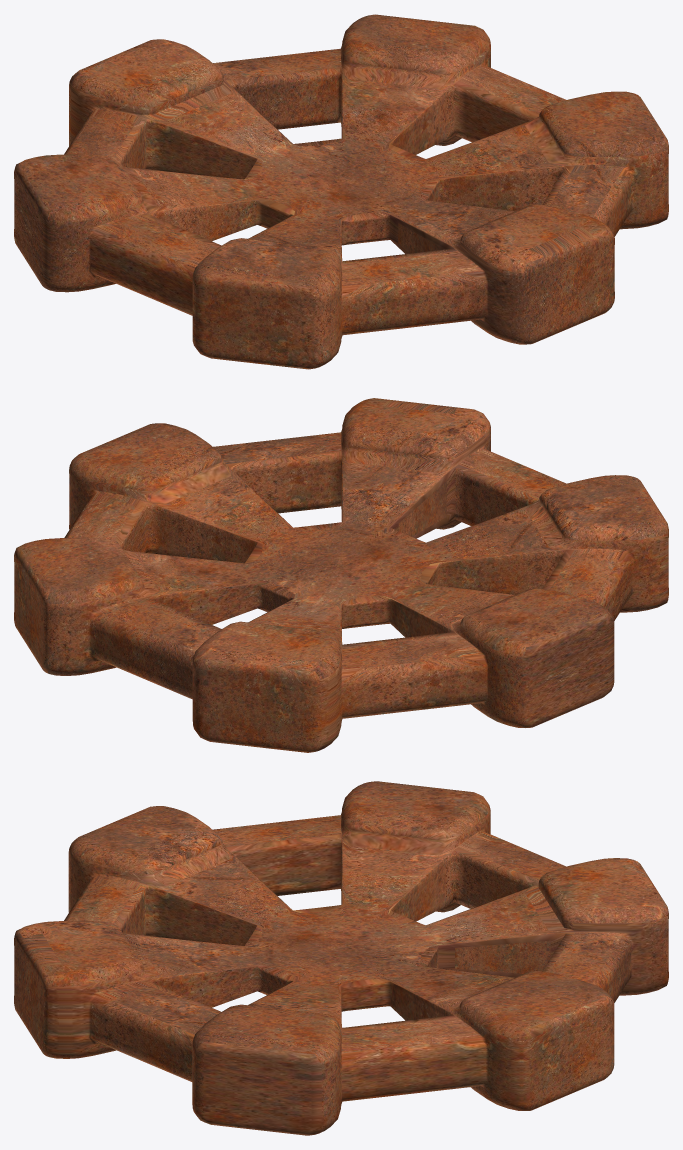
Rendered from ValveRusty.fbx.
3 renders of one model, top to bottom at view 1: azimuth 30°, elevation 25°; view 2: azimuth 150°, elevation 25°; view 3: azimuth 270°, elevation 25°, orthographic.
Parts seen in each view (by area): view 1: pCylinder4; view 2: pCylinder4; view 3: pCylinder4.
Boxes of the visible parts, left/top/right/bottom form: pCylinder4: left=14, top=14, right=668, bottom=369; pCylinder4: left=14, top=398, right=668, bottom=752; pCylinder4: left=14, top=781, right=668, bottom=1135.
Bounding box in the file's own units: 11.27 × 1.64 × 11.28.
